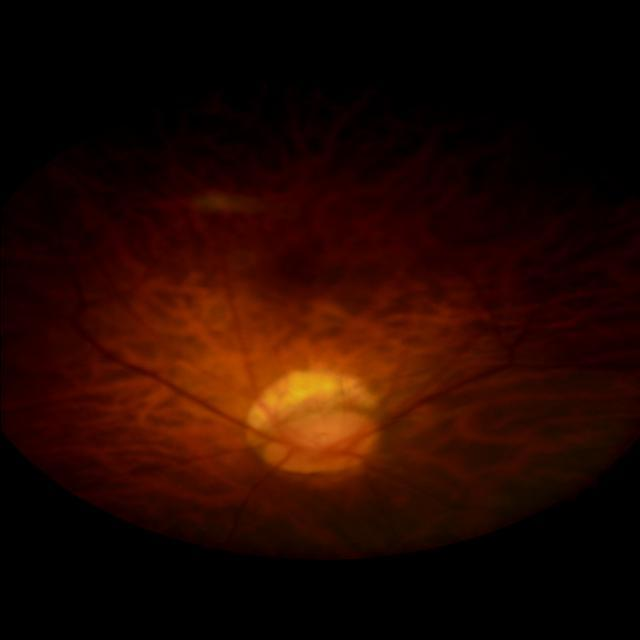cup: (286, 423, 354, 453)
disk: (257, 410, 381, 474)
